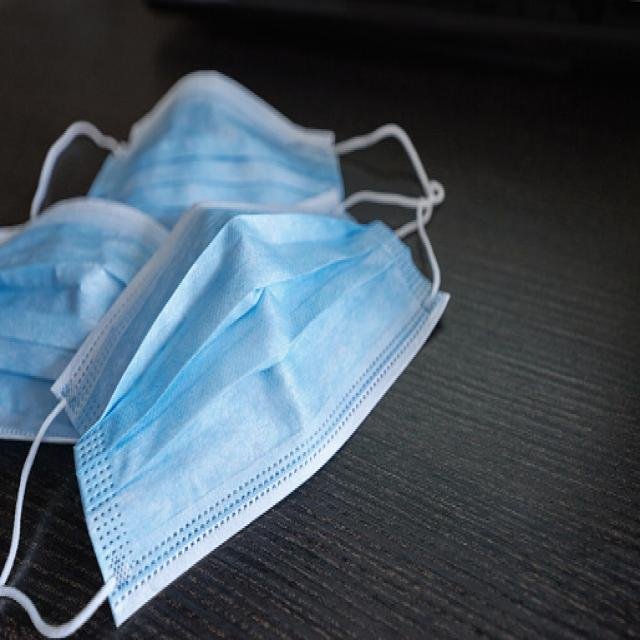non-organic waste: (0, 68, 446, 640)
